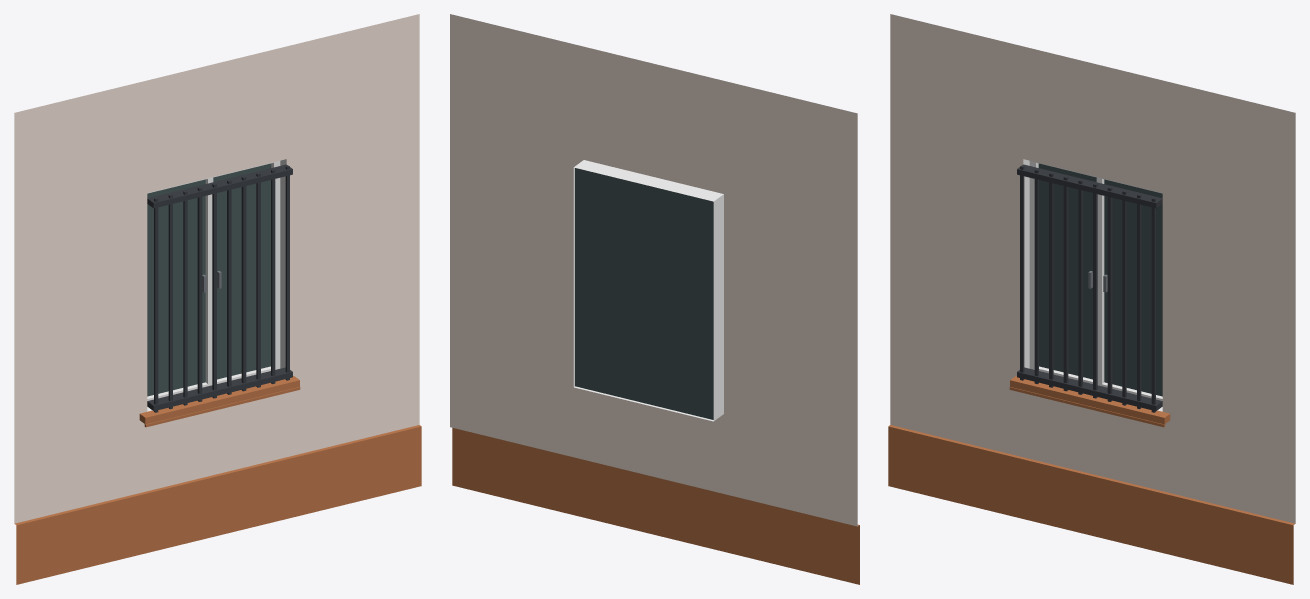
The model's file is base-w1_close.fbx.
3 renders of one model, left to right at view 1: azimuth 30°, elevation 25°; view 2: azimuth 150°, elevation 25°; view 3: azimuth 330°, elevation 25°, orthographic.
Parts seen in each view (by area): view 1: a2000s2/200/base-w1_close; view 2: a2000s2/200/base-w1_close; view 3: a2000s2/200/base-w1_close.
Boxes of the visible parts, x1,y1,x2,y2 form: a2000s2/200/base-w1_close: (14,14,421,584); a2000s2/200/base-w1_close: (450,14,859,584); a2000s2/200/base-w1_close: (888,14,1295,584).
Size of the model in its own units: 3.2 by 3.55 by 0.23.
